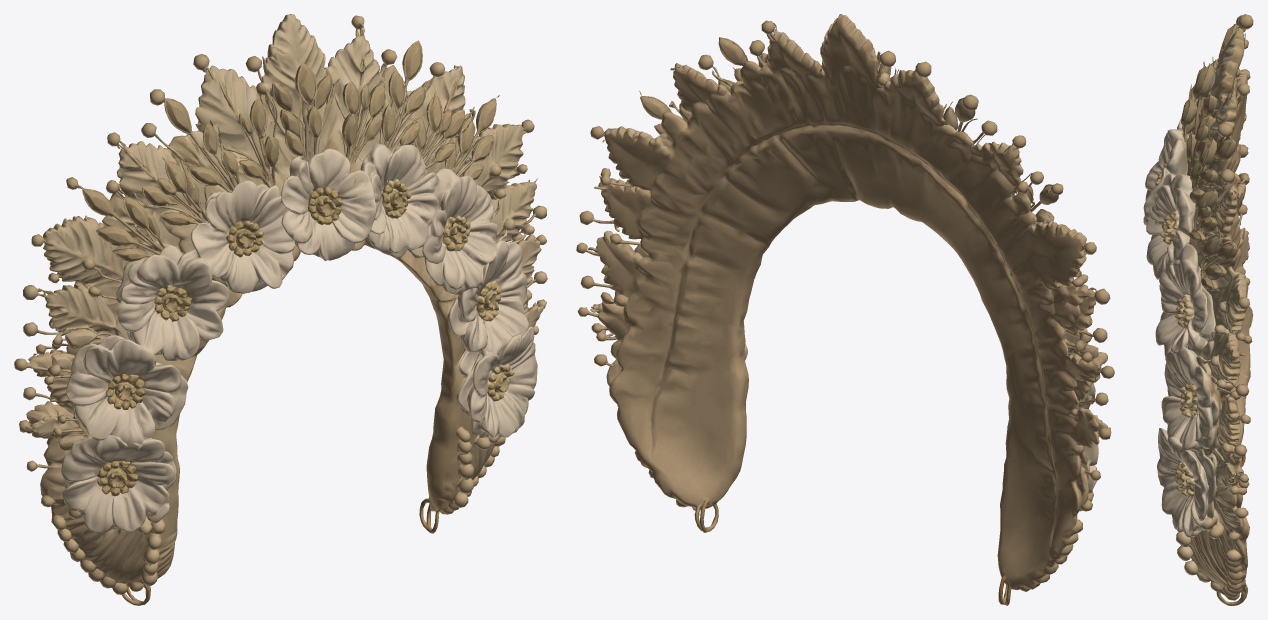
The model's file is kruna.glb.
3 renders of one model, left to right at view 1: azimuth 30°, elevation 25°; view 2: azimuth 150°, elevation 25°; view 3: azimuth 270°, elevation 25°, orthographic. The views are drawn at different scales.
Size of the model in its own units: 1.9 by 1.87 by 0.3645.
Materials: 1 (1 with a texture image).
